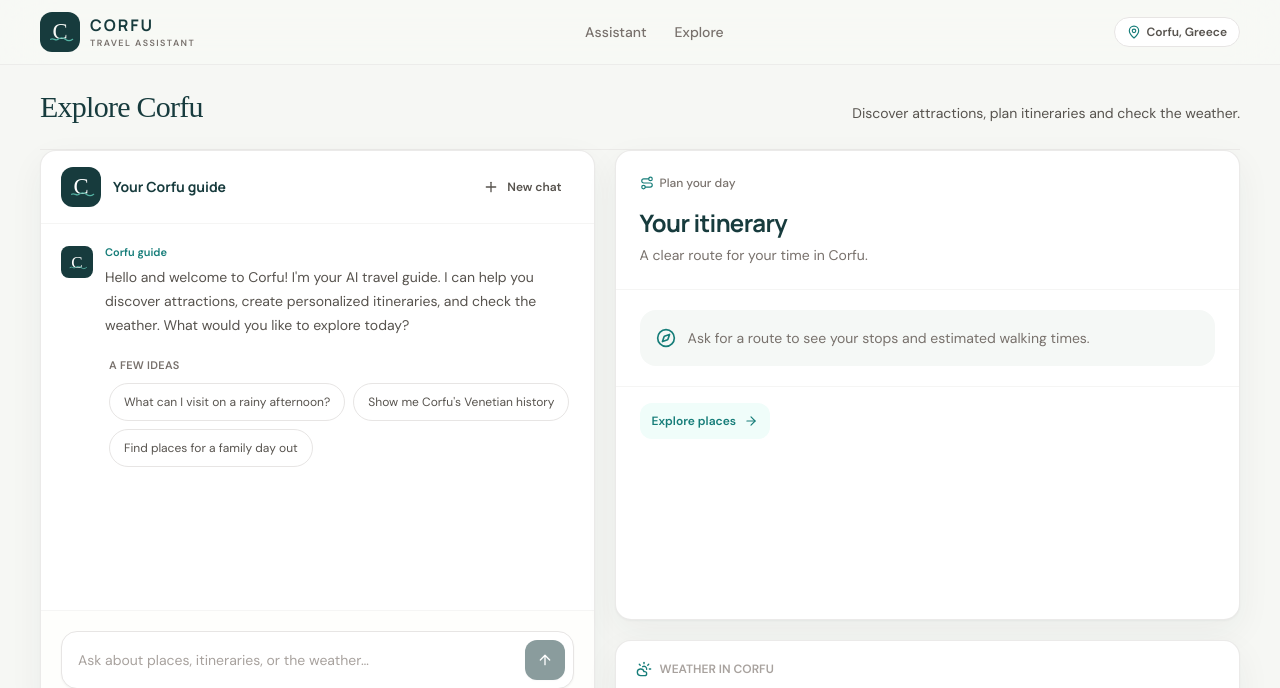
it: Corfu assistant API integration › labels live weather as live and shows values supplied by the backend
Type "What is the weather now?" into the text box named "Message your Corfu guide" at {"x": 293, "y": 660}, box [70, 640, 517, 680]
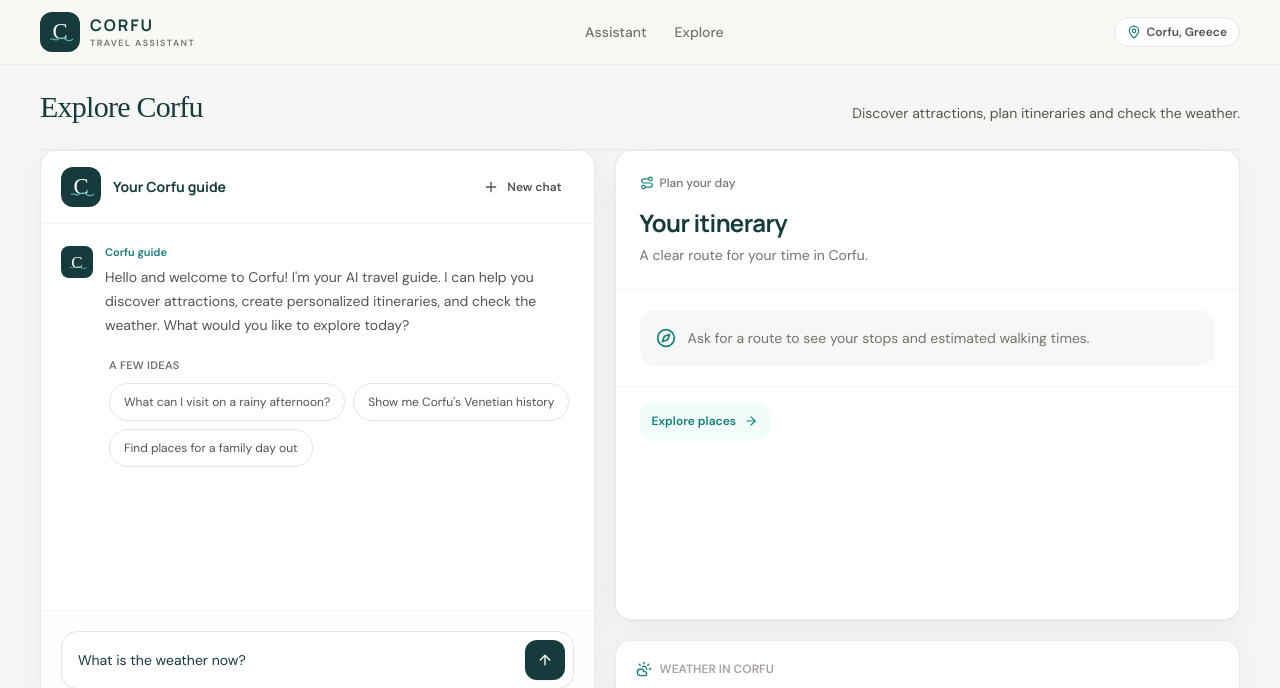
expect the button named "Send message" is enabled: met
Click the button named "Send message" at {"x": 545, "y": 660}, box [525, 640, 565, 680]
(page scrolled)
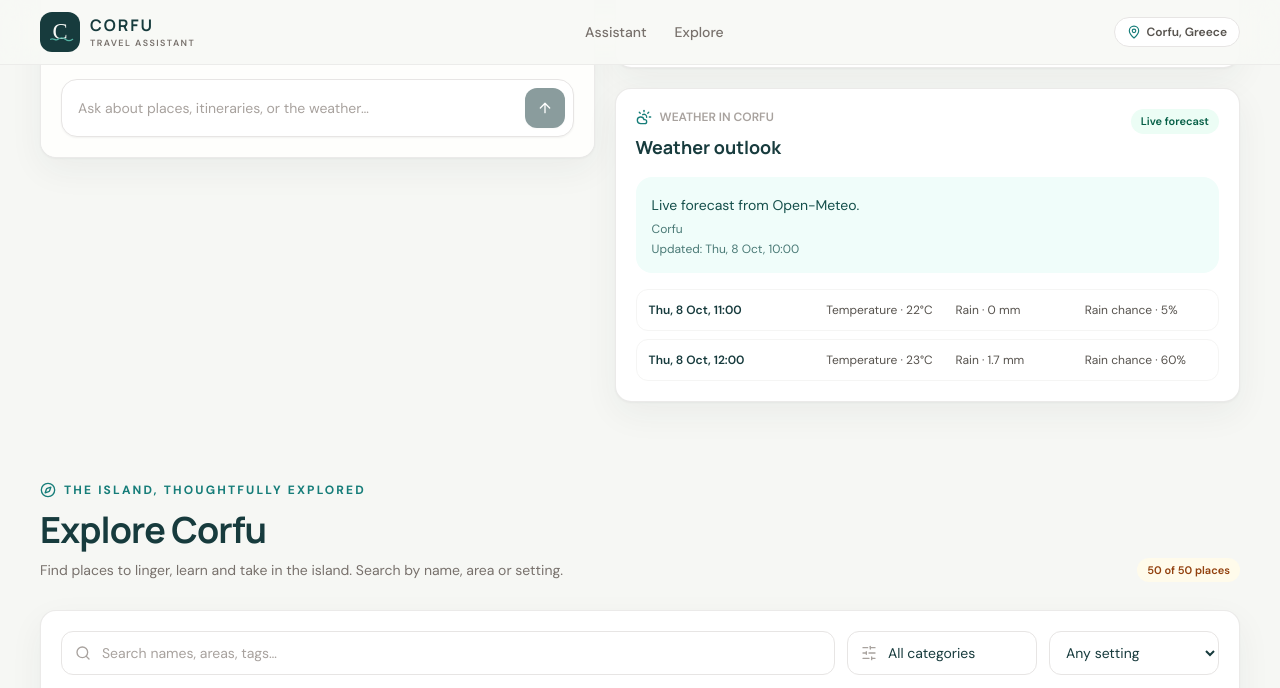
expect the text "Live forecast" is shown: met, box [1131, 109, 1219, 134]
expect the text "Live forecast from Open-Meteo." is shown: met, box [652, 196, 859, 214]
expect the text "Temperature · 22°C" is shown: met, box [826, 302, 948, 318]
